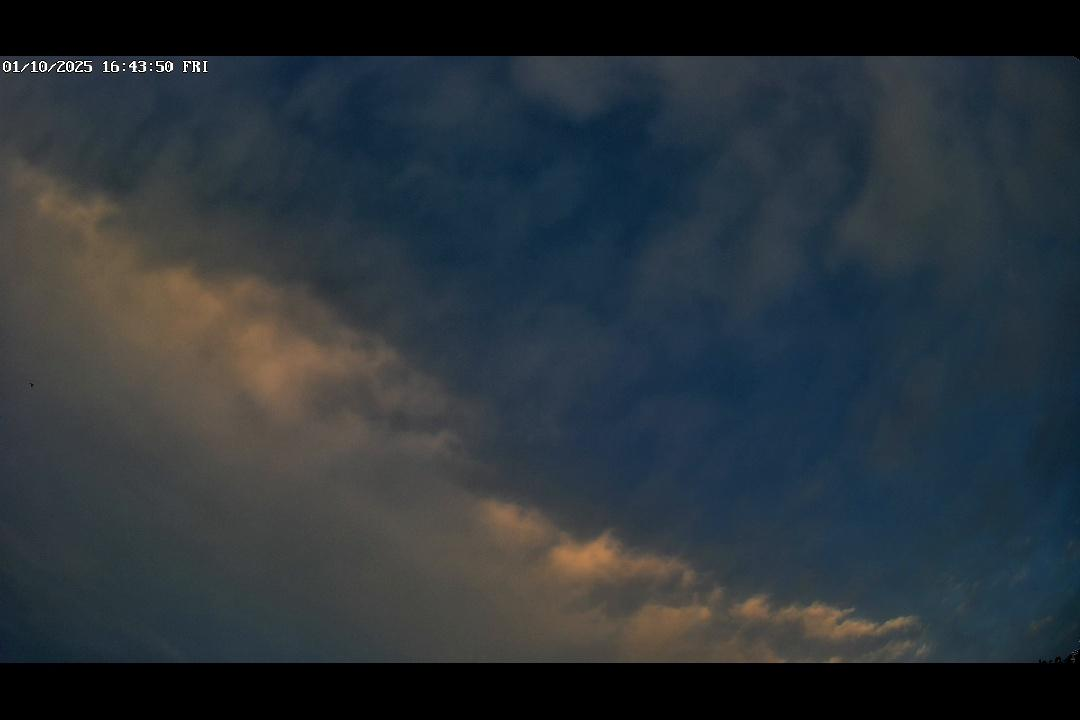WildLife: (17, 378, 46, 393)
